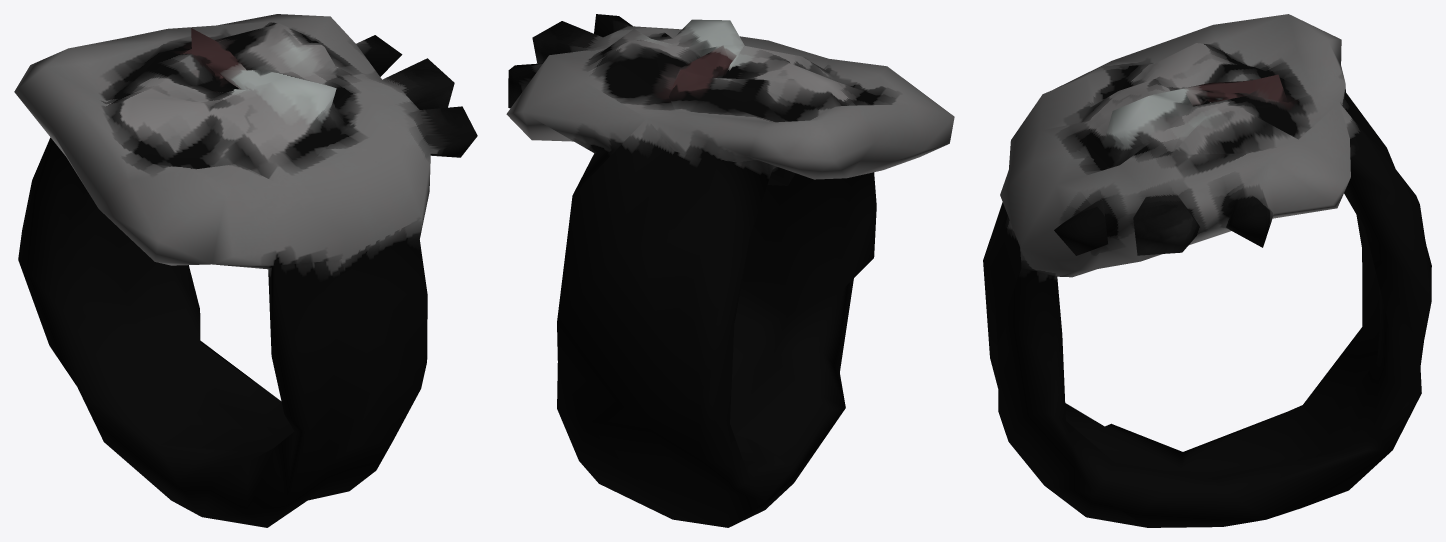
The model's file is argo black.glb.
3 views of the same model, side by side, from view 1: azimuth 30°, elevation 25°; view 2: azimuth 150°, elevation 25°; view 3: azimuth 270°, elevation 25° (orthographic). The views are drawn at different scales.
Parts seen in each view (by area): view 1: watch_argo_black.001; view 2: watch_argo_black.001; view 3: watch_argo_black.001.
Boxes of the visible parts, box(x1,y1,x2,y2) form: watch_argo_black.001: box(14, 14, 477, 527); watch_argo_black.001: box(506, 14, 954, 527); watch_argo_black.001: box(983, 14, 1431, 527).
Bounding box in the file's own units: 0.0437 × 0.0514 × 0.0473.
Materials: 1 (1 with a texture image).
